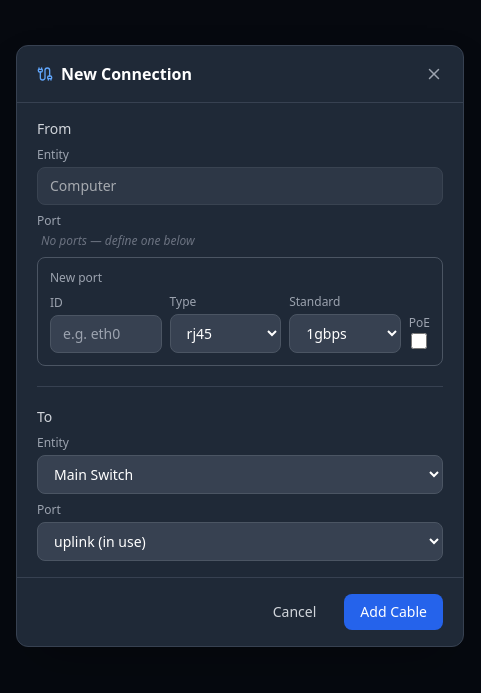
Test: ConnectionForm — new connection › shows an error and does not close when port ID is empty
Click the button "Add Cable" at (394, 612), box [344, 594, 443, 630]
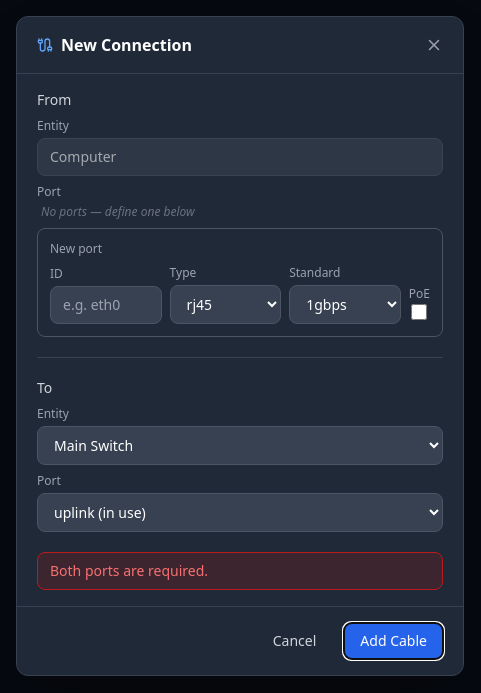
expect the text "Both ports are required." is shown: met, box [37, 552, 443, 590]
